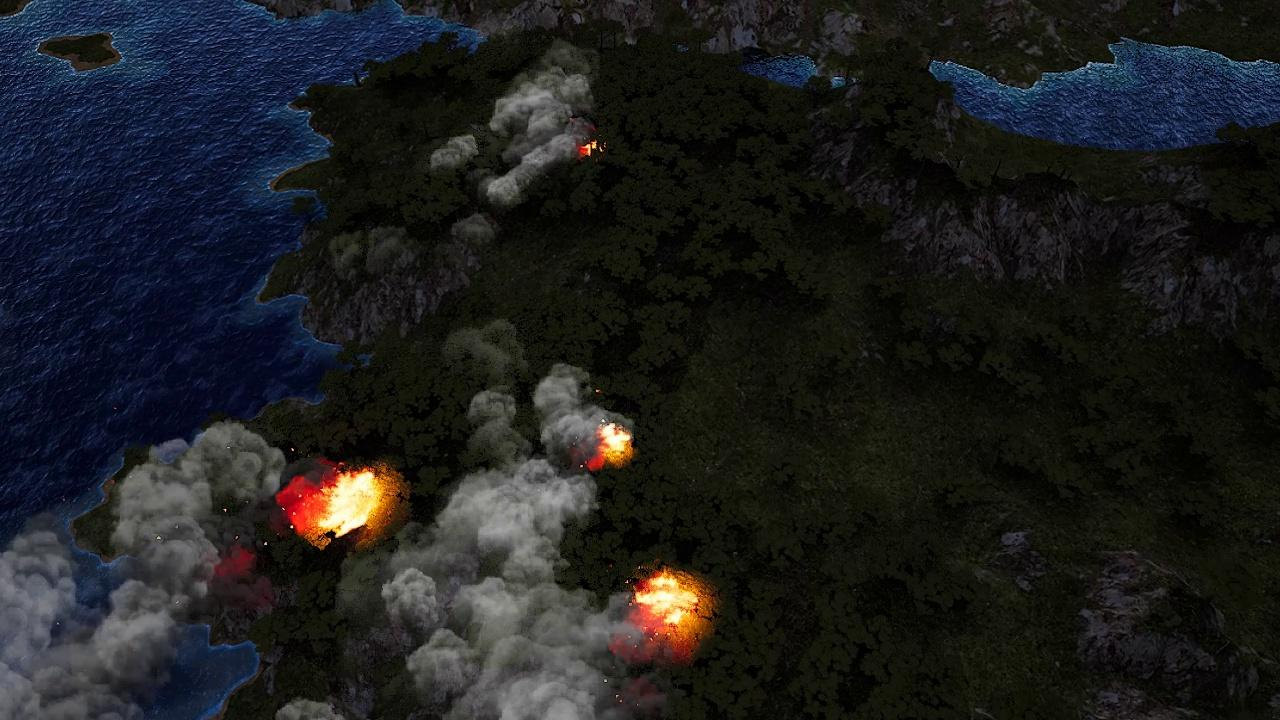fire: (310, 467, 388, 541), (633, 568, 702, 634), (589, 423, 632, 467), (578, 139, 601, 161)
smoke: (335, 364, 670, 720), (0, 420, 295, 720), (340, 37, 607, 273)
